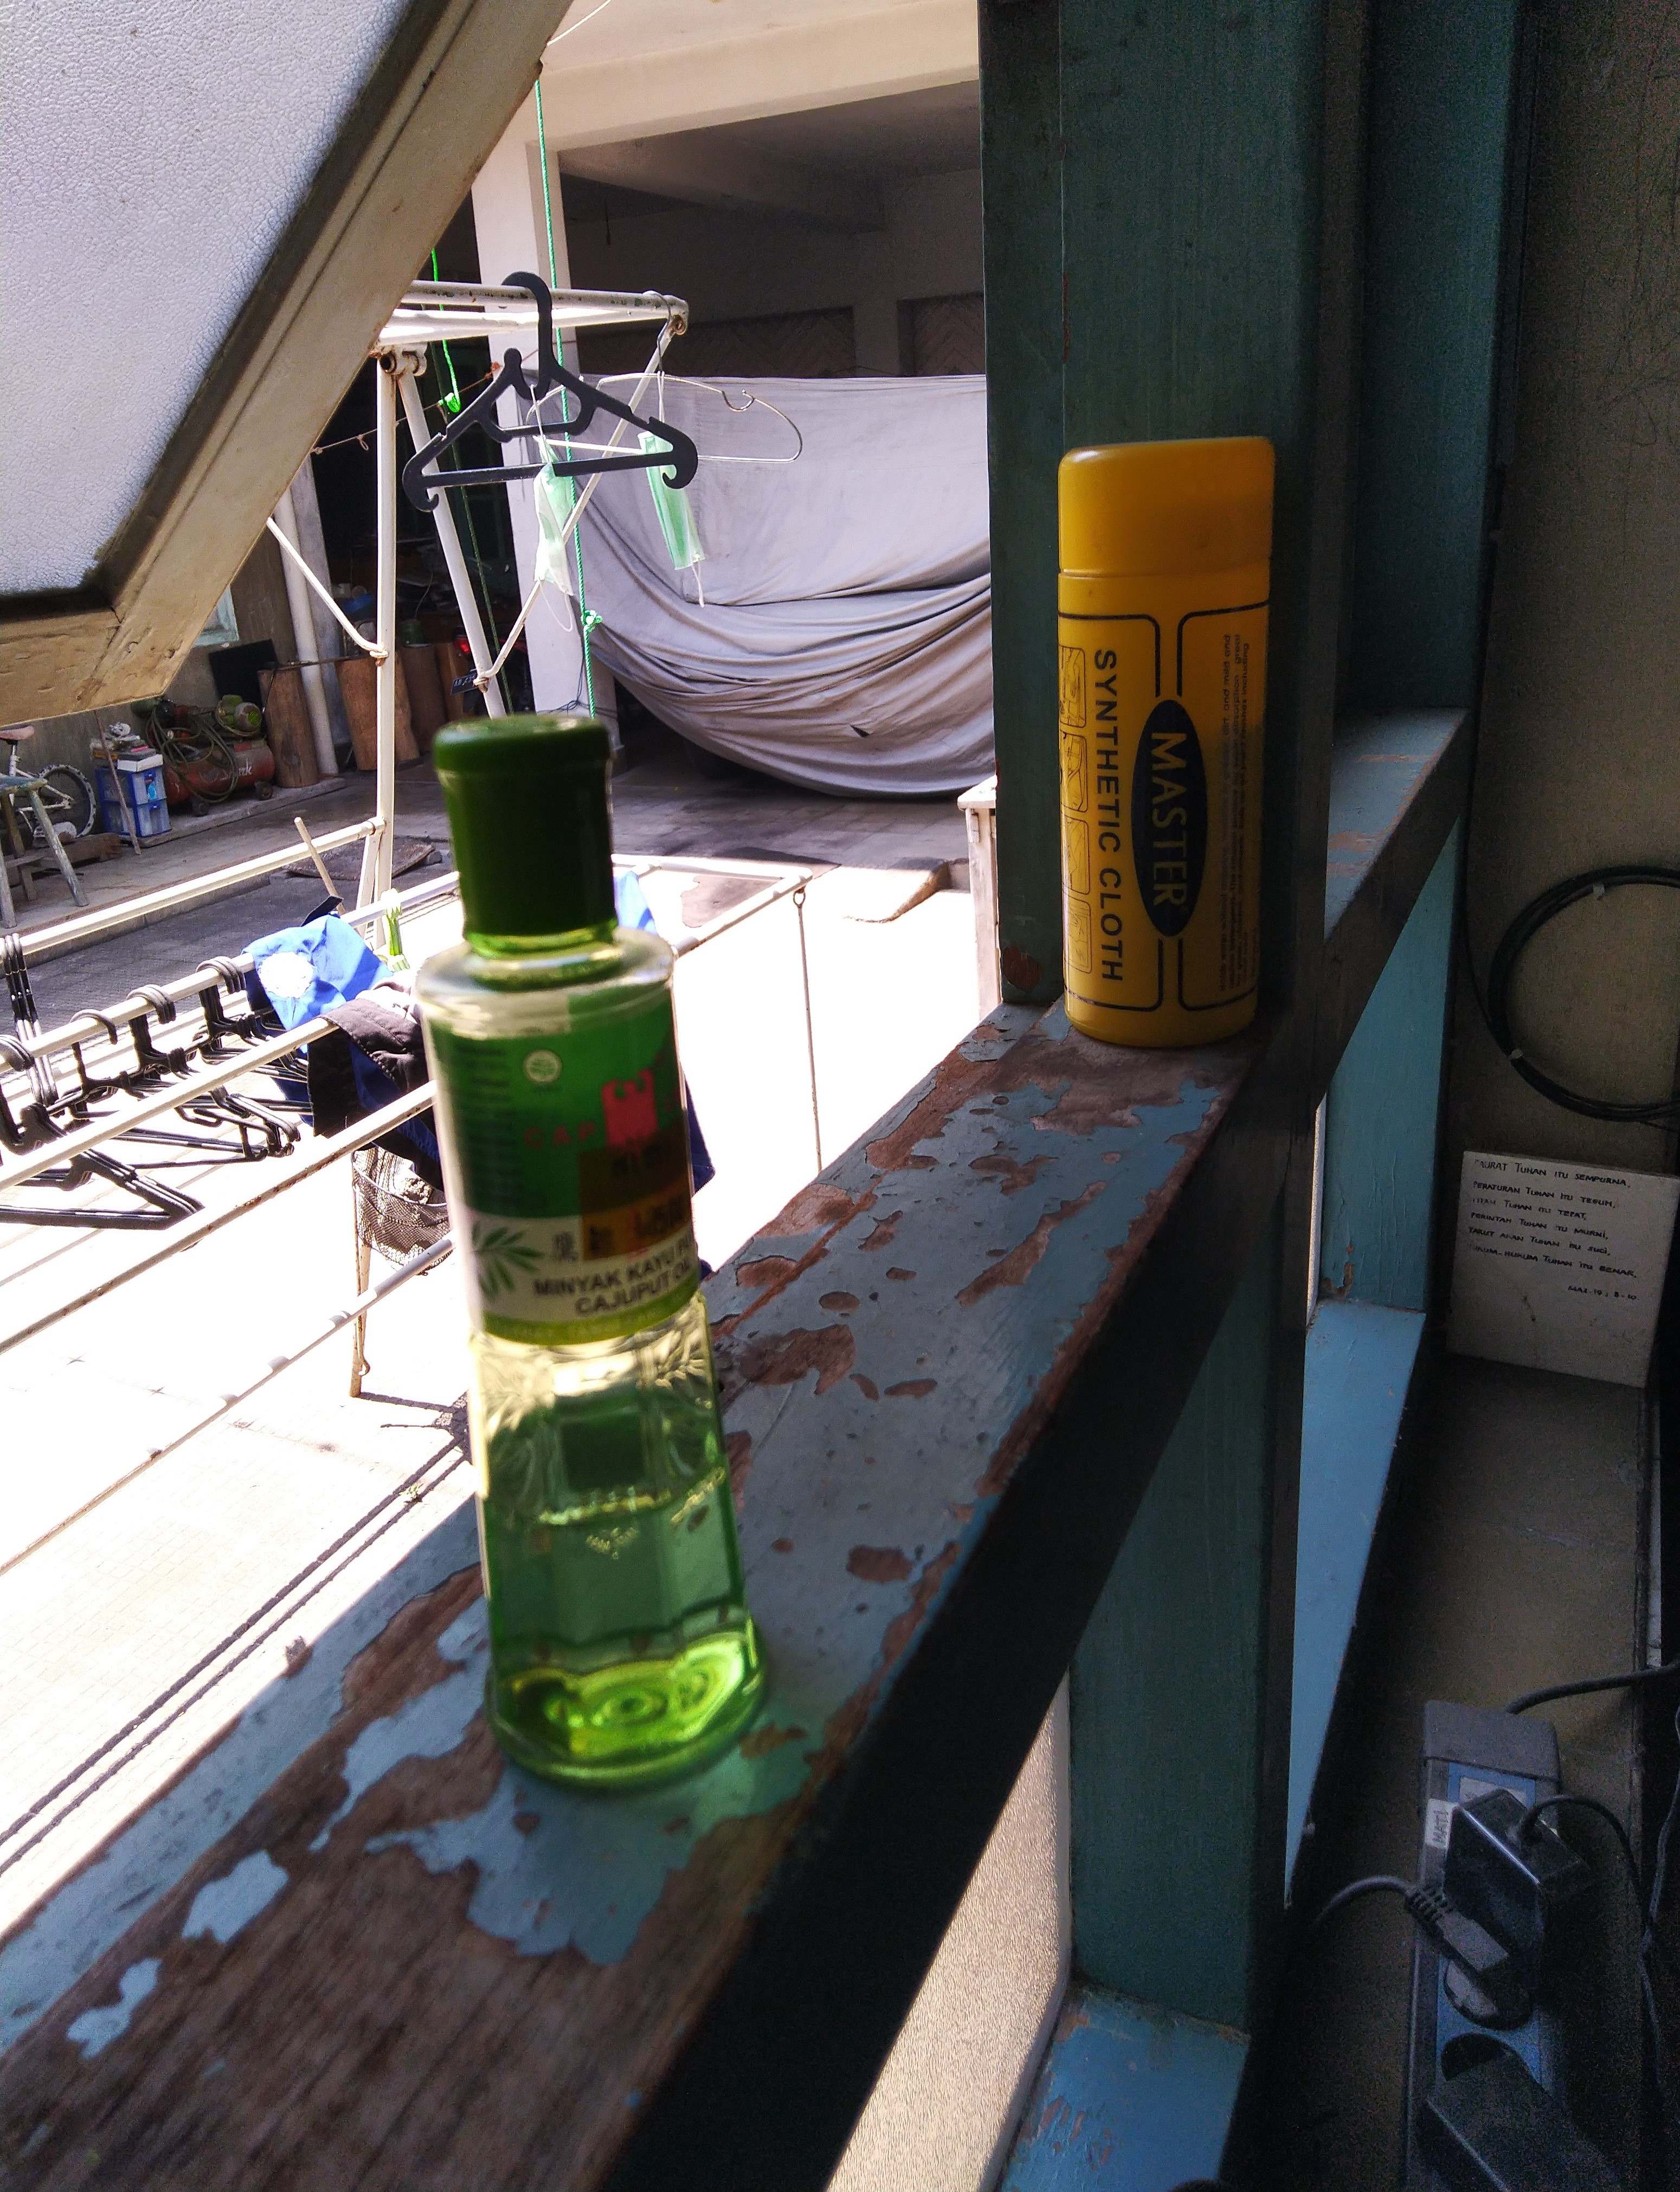HDPE: (432, 711, 628, 941)
PET: (420, 942, 768, 1786)
